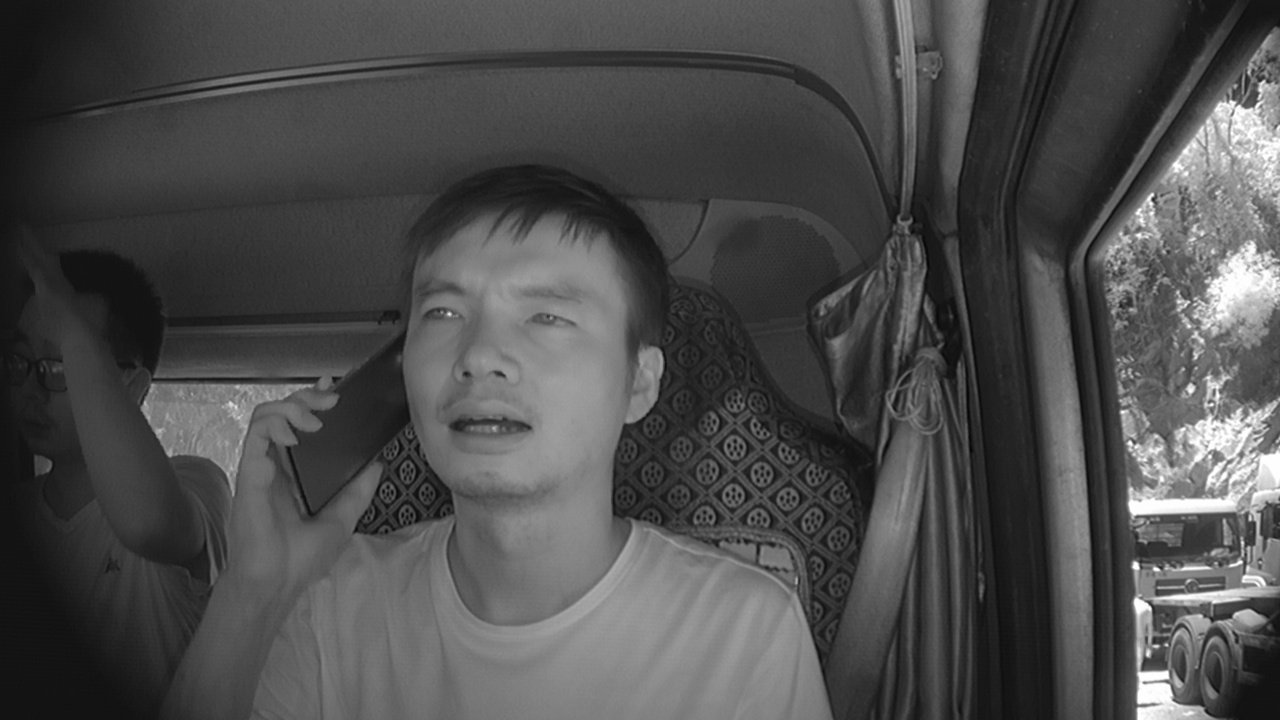hand: (212, 372, 381, 588)
